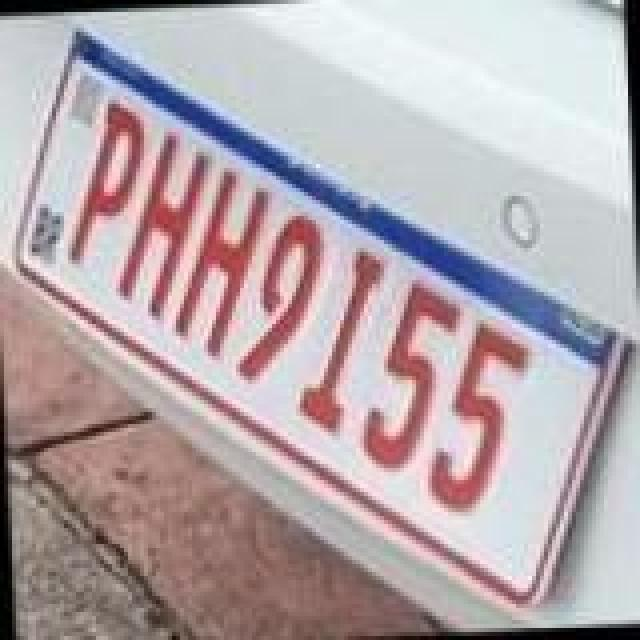5: (420, 316, 544, 512), (348, 278, 468, 470)
9: (228, 212, 332, 380)
H: (164, 168, 284, 364), (108, 130, 224, 322)
I: (286, 250, 394, 438)
P: (58, 94, 154, 266)
